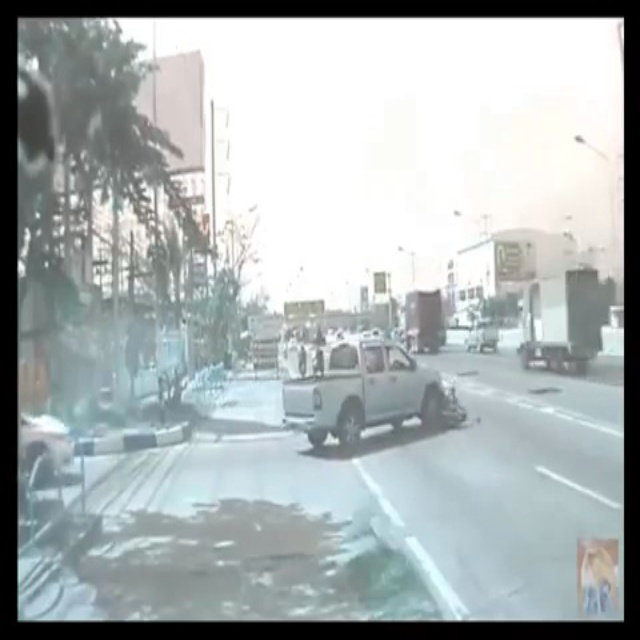acc: (283, 336, 467, 453)
